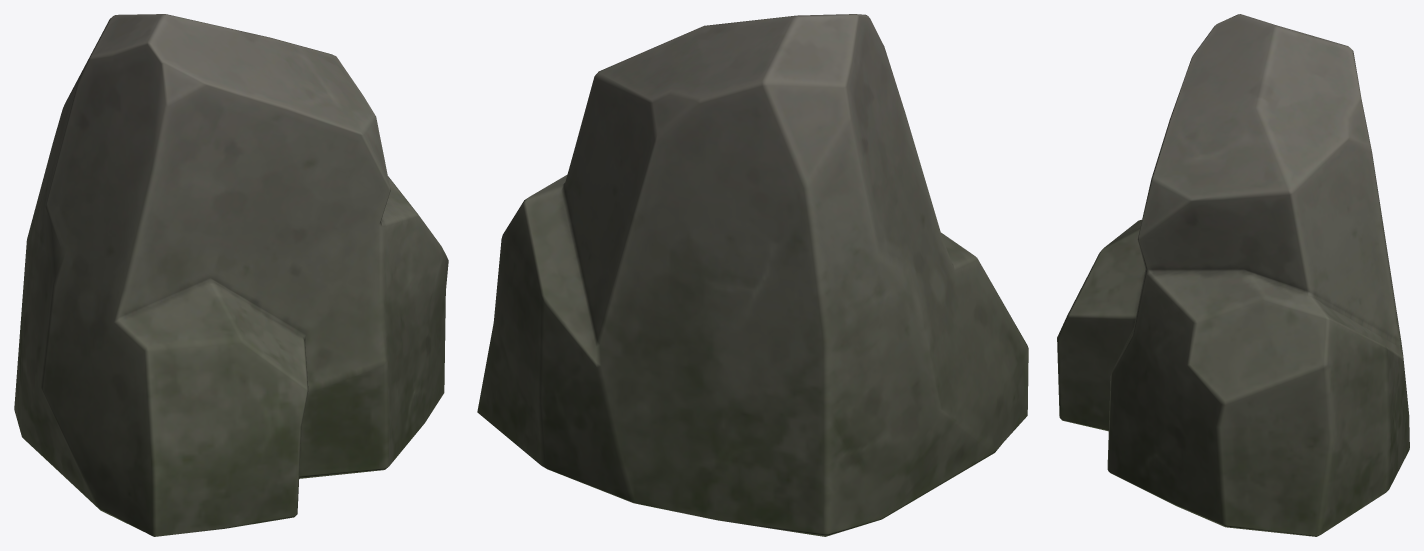
The model's file is AP2_Rock6.glb.
3 renders of one model, left to right at view 1: azimuth 30°, elevation 25°; view 2: azimuth 150°, elevation 25°; view 3: azimuth 270°, elevation 25°, orthographic. The views are drawn at different scales.
Parts seen in each view (by area): view 1: Rock6_LOD0; view 2: Rock6_LOD0; view 3: Rock6_LOD0.
Boxes of the visible parts, <box> form: Rock6_LOD0: <box>14,14,448,536</box>; Rock6_LOD0: <box>477,14,1028,536</box>; Rock6_LOD0: <box>1057,14,1409,536</box>.
Size of the model in its own units: 3.46 by 3.45 by 2.85.
1 material, 1 textured.
